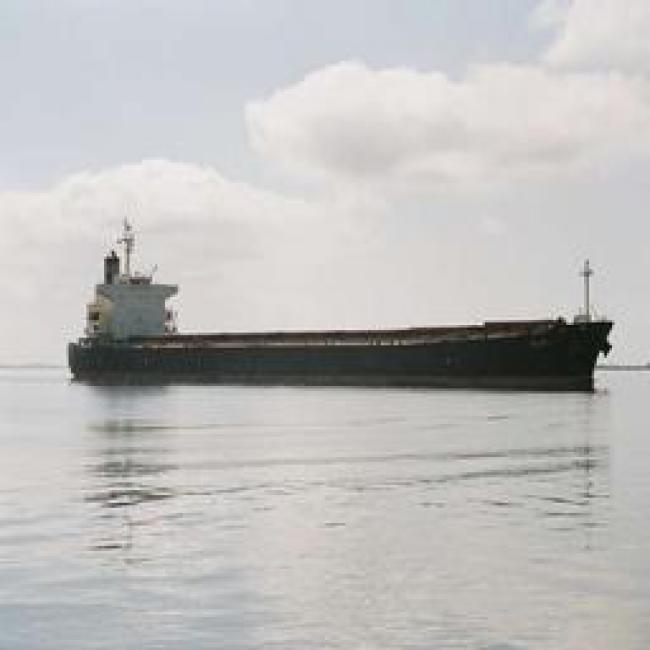Ship: (80, 235, 625, 395)
